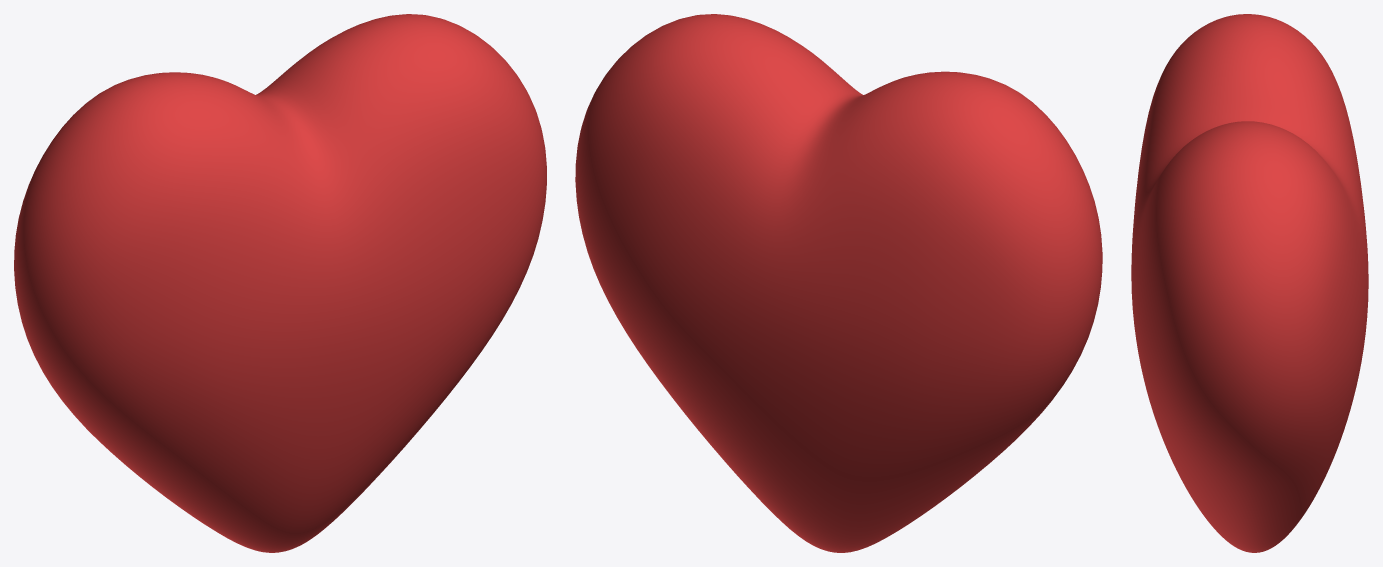
The model's file is coeur_blender.glb.
The picture shows the model from 3 angles, left to right: view 1: azimuth 30°, elevation 25°; view 2: azimuth 150°, elevation 25°; view 3: azimuth 270°, elevation 25°; orthographic projection. The views are drawn at different scales.
Visible parts, largest first — view 1: 12190_Heart_v1_L3; view 2: 12190_Heart_v1_L3; view 3: 12190_Heart_v1_L3.
Boxes of the visible parts, box(x1,y1,x2,y2) form: 12190_Heart_v1_L3: box(14, 14, 546, 552); 12190_Heart_v1_L3: box(575, 14, 1102, 552); 12190_Heart_v1_L3: box(1131, 14, 1368, 552).
Size of the model in its own units: 21.25 by 19.91 by 9.15.
